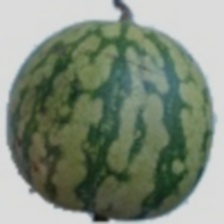watermelon: (0, 34, 200, 171)
